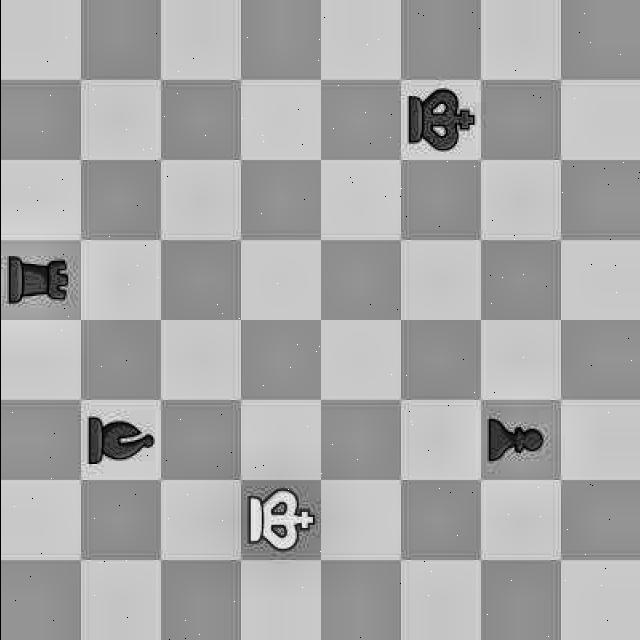black bishop: (80, 403, 160, 480)
black king: (400, 76, 477, 158)
black pawn: (478, 402, 556, 482)
black rook: (0, 244, 83, 318)
white king: (240, 484, 320, 556)
